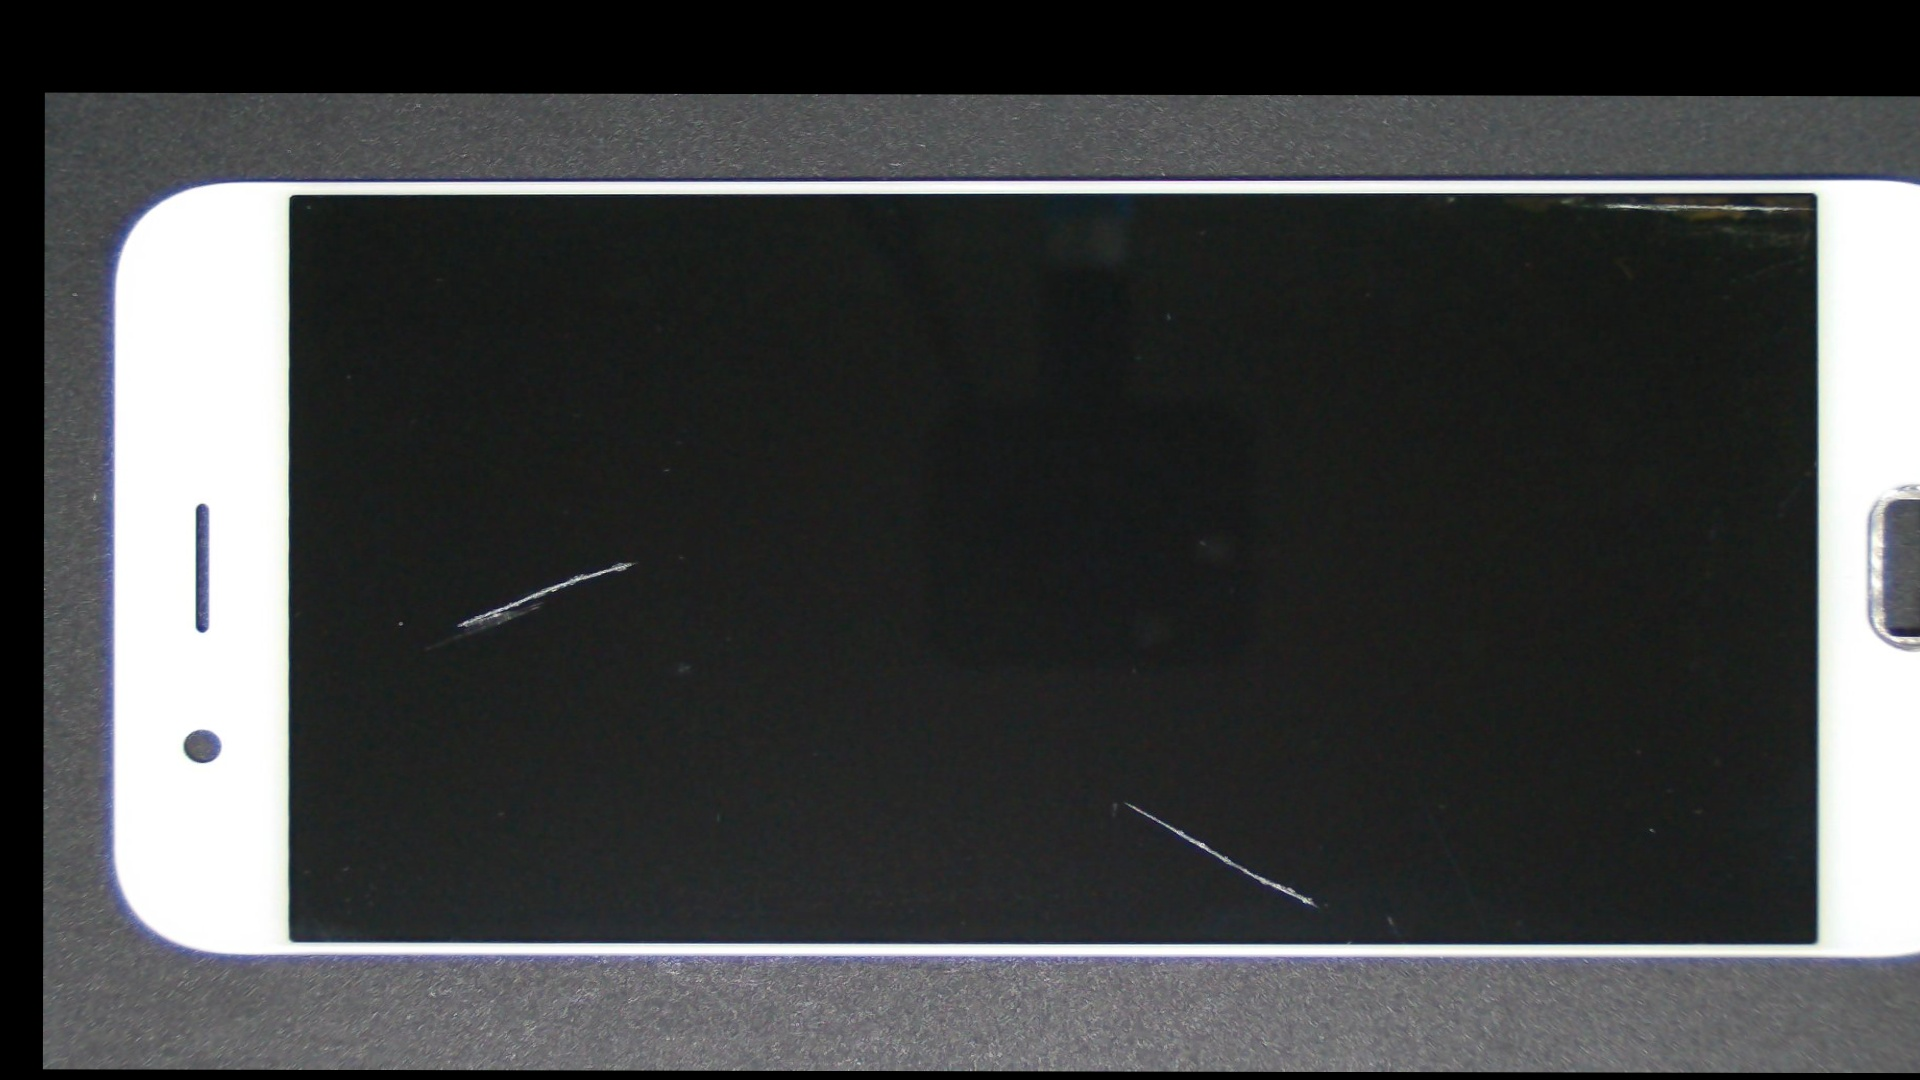oil: (584, 447, 1665, 1072), (334, 327, 913, 796), (824, 146, 1920, 257)
